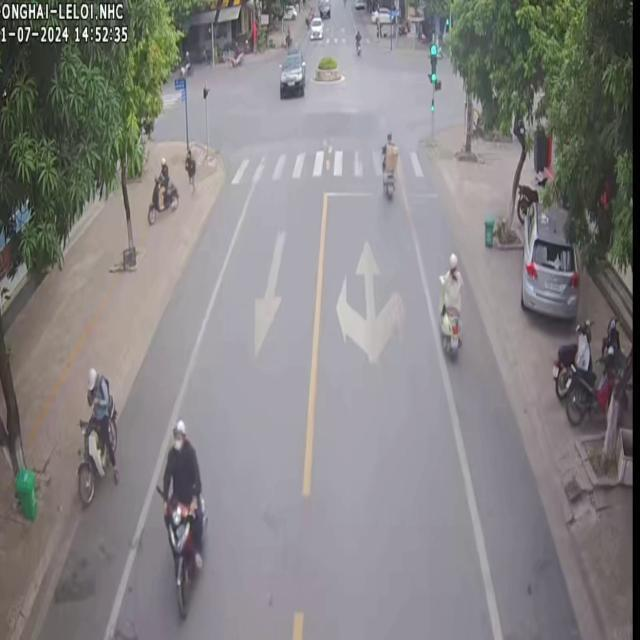car: (519, 200, 578, 318), (278, 49, 304, 98), (307, 16, 322, 38)
green_light: (429, 44, 436, 83)
motobike: (156, 418, 206, 616), (76, 365, 117, 502), (564, 345, 623, 422), (550, 318, 590, 398), (437, 251, 462, 357), (146, 176, 177, 222), (379, 131, 397, 198)
stop_line: (395, 189, 443, 199), (324, 190, 383, 197)
